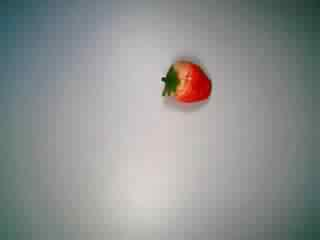strawberry: (152, 52, 220, 116)
